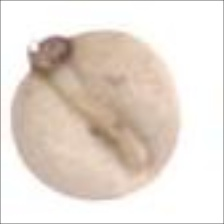L5: (46, 61, 153, 174), (24, 34, 79, 76)
L6: (8, 28, 181, 203)
